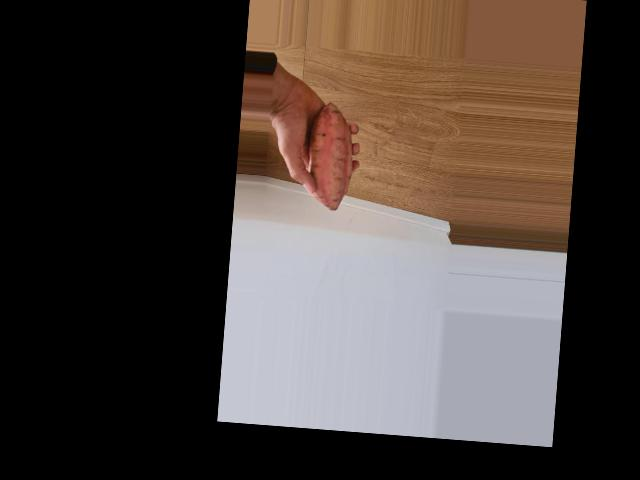sweet_potato: (304, 97, 354, 212)
